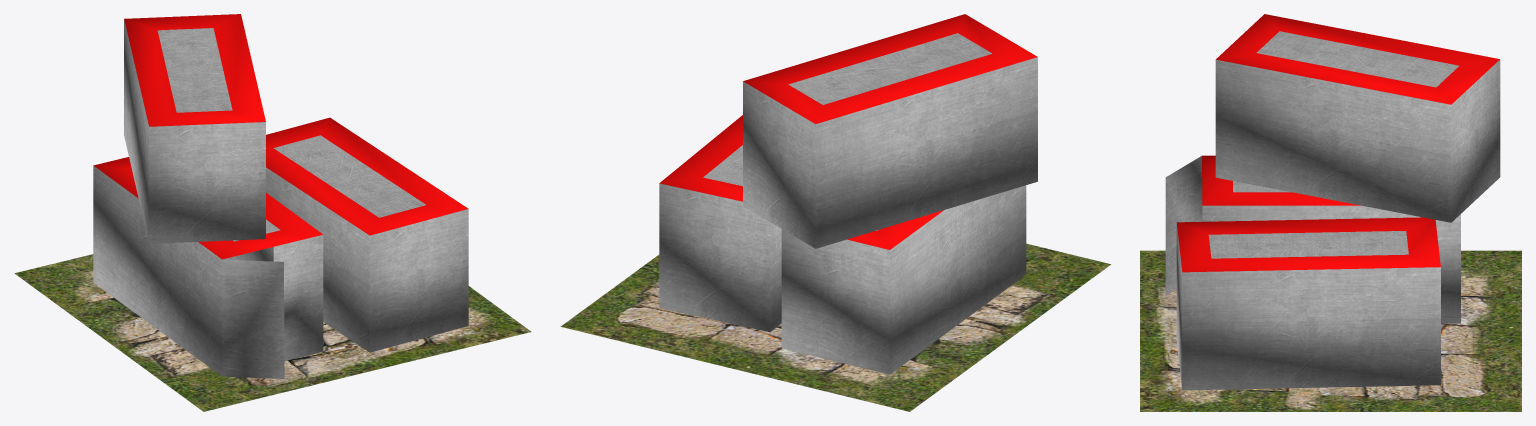
File: supply.obj
3 renders of one model, left to right at view 1: azimuth 30°, elevation 25°; view 2: azimuth 150°, elevation 25°; view 3: azimuth 270°, elevation 25°, orthographic. The views are drawn at different scales.
Size of the model in its own units: 2 by 1.39 by 2.
Materials: 3 (2 with a texture image).
